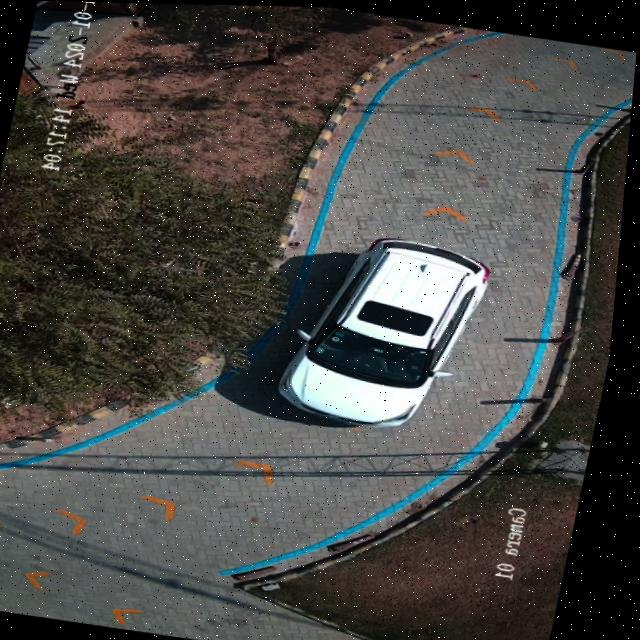car: (281, 234, 496, 426)
